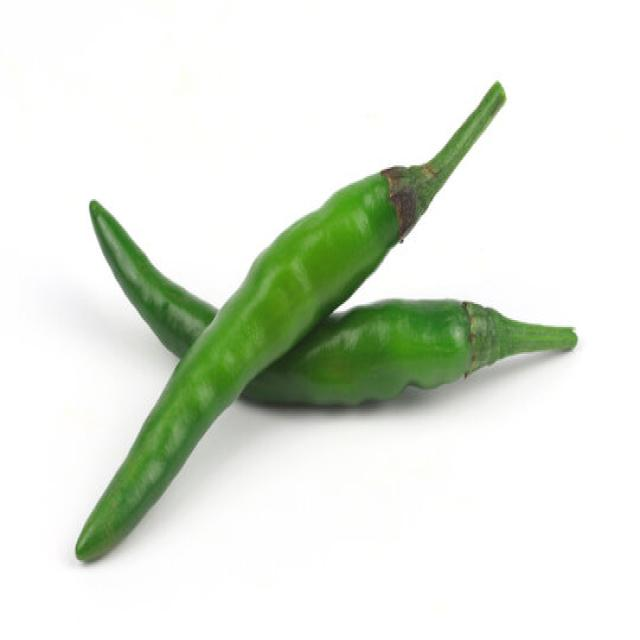Chilli: (75, 78, 506, 562), (88, 197, 576, 411)
